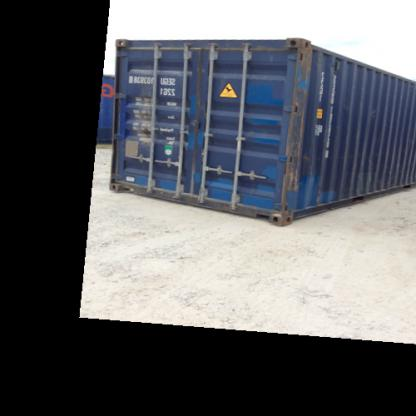Damage: (282, 89, 304, 197), (288, 31, 316, 83)
